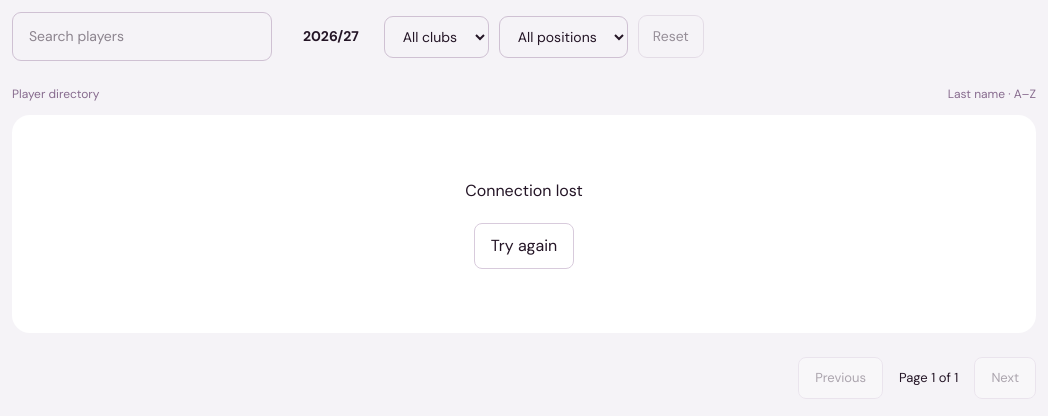
Test case: shows search errors and lets the user retry
Expected: the message shows "Connection lost", [465,180,583,201]
What coordinates should you click on to do the following:
click the button "Try again"
I would click on:
 (524, 246)
Its box is [474,223,574,269].
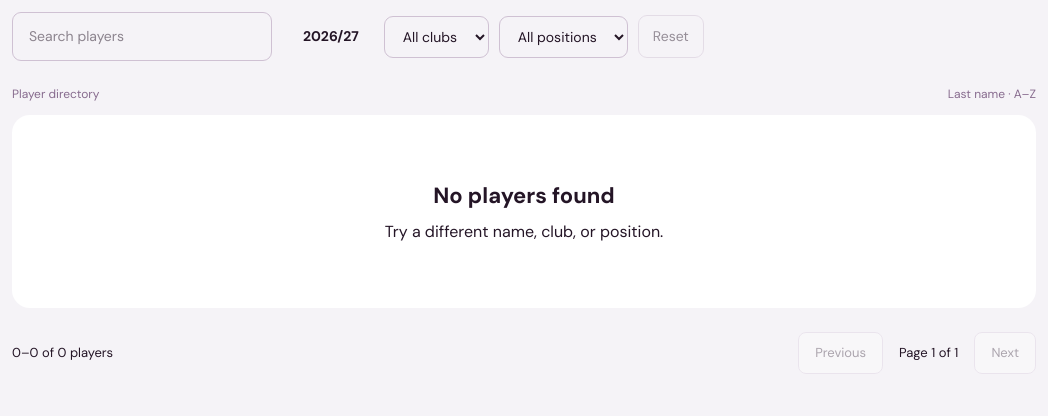
Result: the heading "No players found" is shown at [433,181,615,210]
